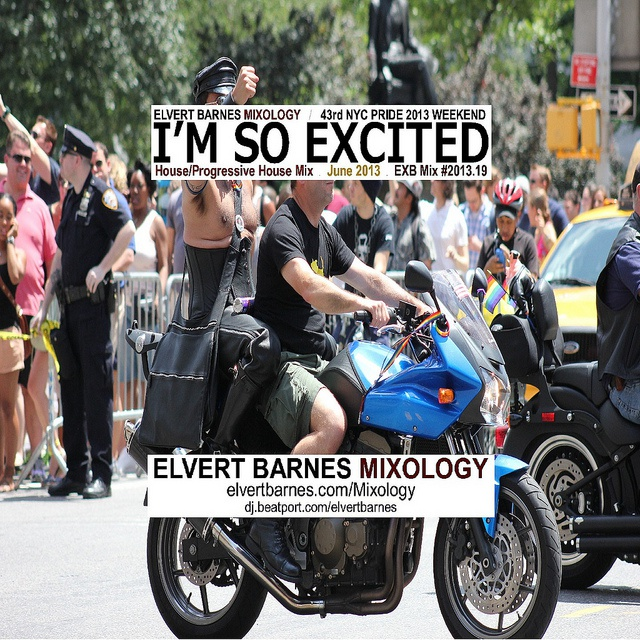non-vehicle: (124, 260, 563, 640), (487, 283, 637, 589)
